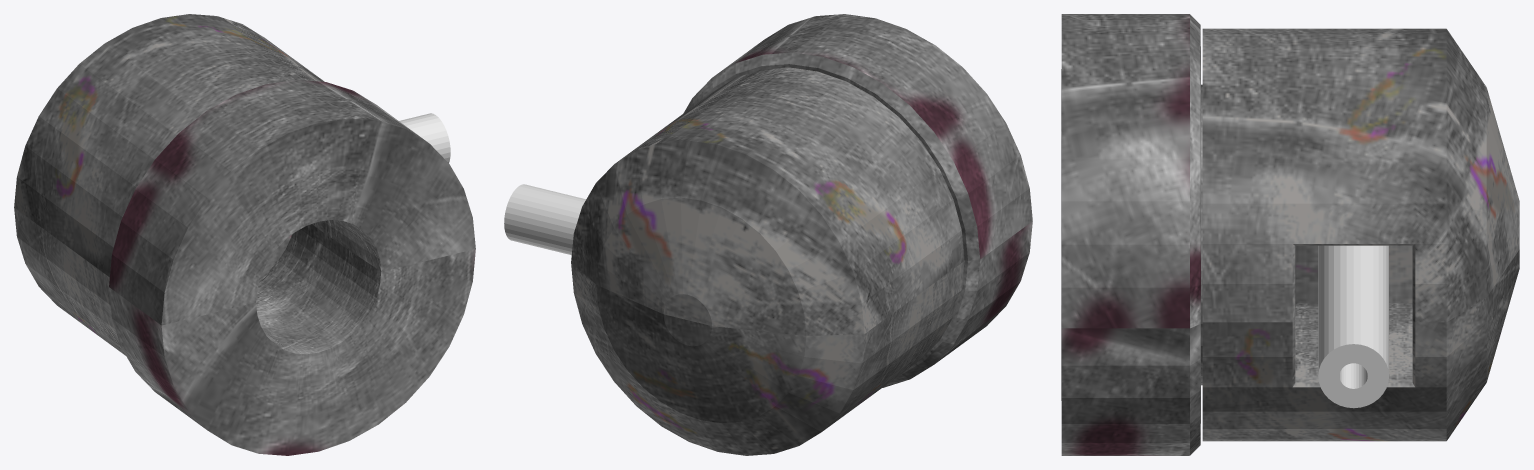
File: tourel.dae
3 renders of one model, left to right at view 1: azimuth 30°, elevation 25°; view 2: azimuth 150°, elevation 25°; view 3: azimuth 270°, elevation 25°, orthographic. The views are drawn at different scales.
Visible parts, largest first — view 1: Base, Tower, Gun; view 2: Tower, Base, Gun; view 3: Tower, Base, Gun.
Part boxes in pixels (box(x1,y1,x2,y2)): Base: box(109, 80, 475, 455); Tower: box(14, 14, 324, 355); Gun: box(399, 113, 450, 162); Tower: box(571, 67, 964, 455); Base: box(683, 14, 1032, 387); Gun: box(504, 184, 585, 254); Tower: box(1202, 28, 1519, 441); Base: box(1061, 14, 1202, 455); Gun: box(1318, 245, 1388, 408).
Size of the model in its own units: 2.51 by 2.07 by 2.
Materials: 2 (2 with a texture image).
